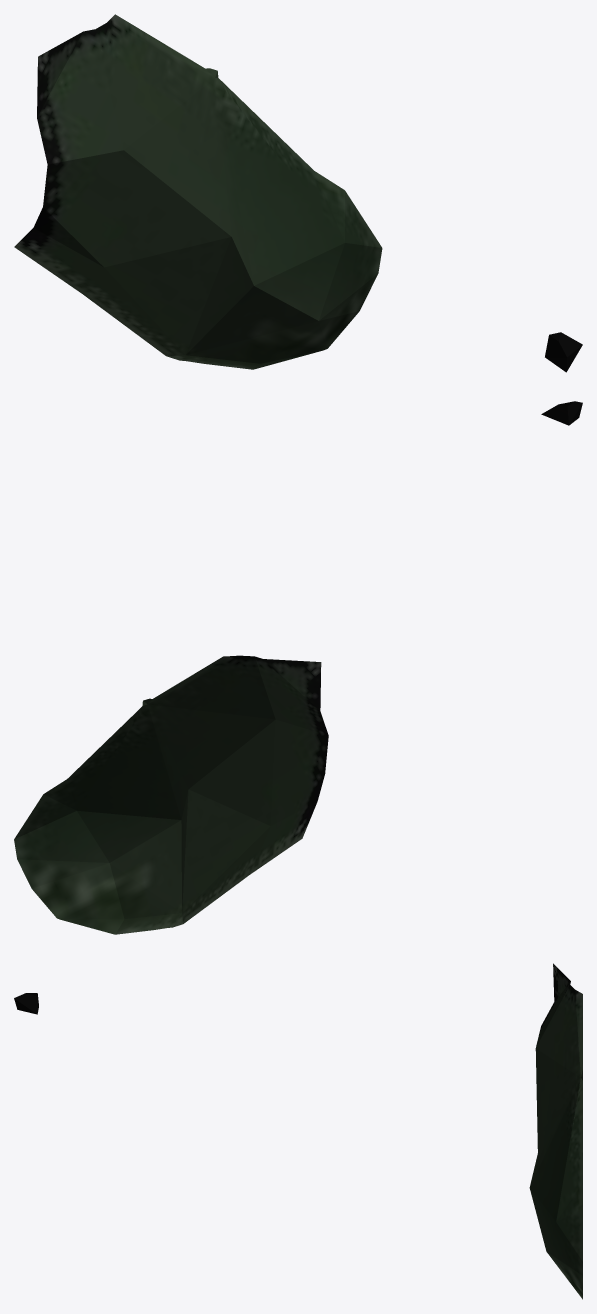
The picture shows the model from 3 angles, top to bottom: view 1: azimuth 30°, elevation 25°; view 2: azimuth 150°, elevation 25°; view 3: azimuth 270°, elevation 25°; orthographic projection. The views are drawn at different scales.
Bounding box in the file's own units: 2.08 × 2.1 × 4.46.
1 material, 1 textured.
